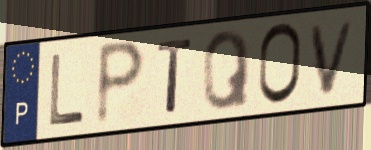L: (48, 50, 87, 127)
O: (256, 21, 304, 109)
P: (93, 37, 148, 129)
Q: (201, 28, 253, 114)
T: (155, 35, 195, 116)
V: (308, 17, 359, 99)
